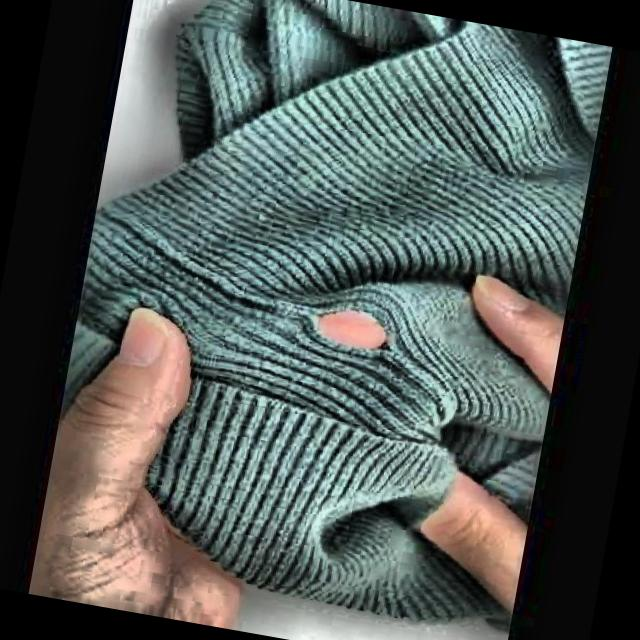cut: (250, 270, 422, 410)
